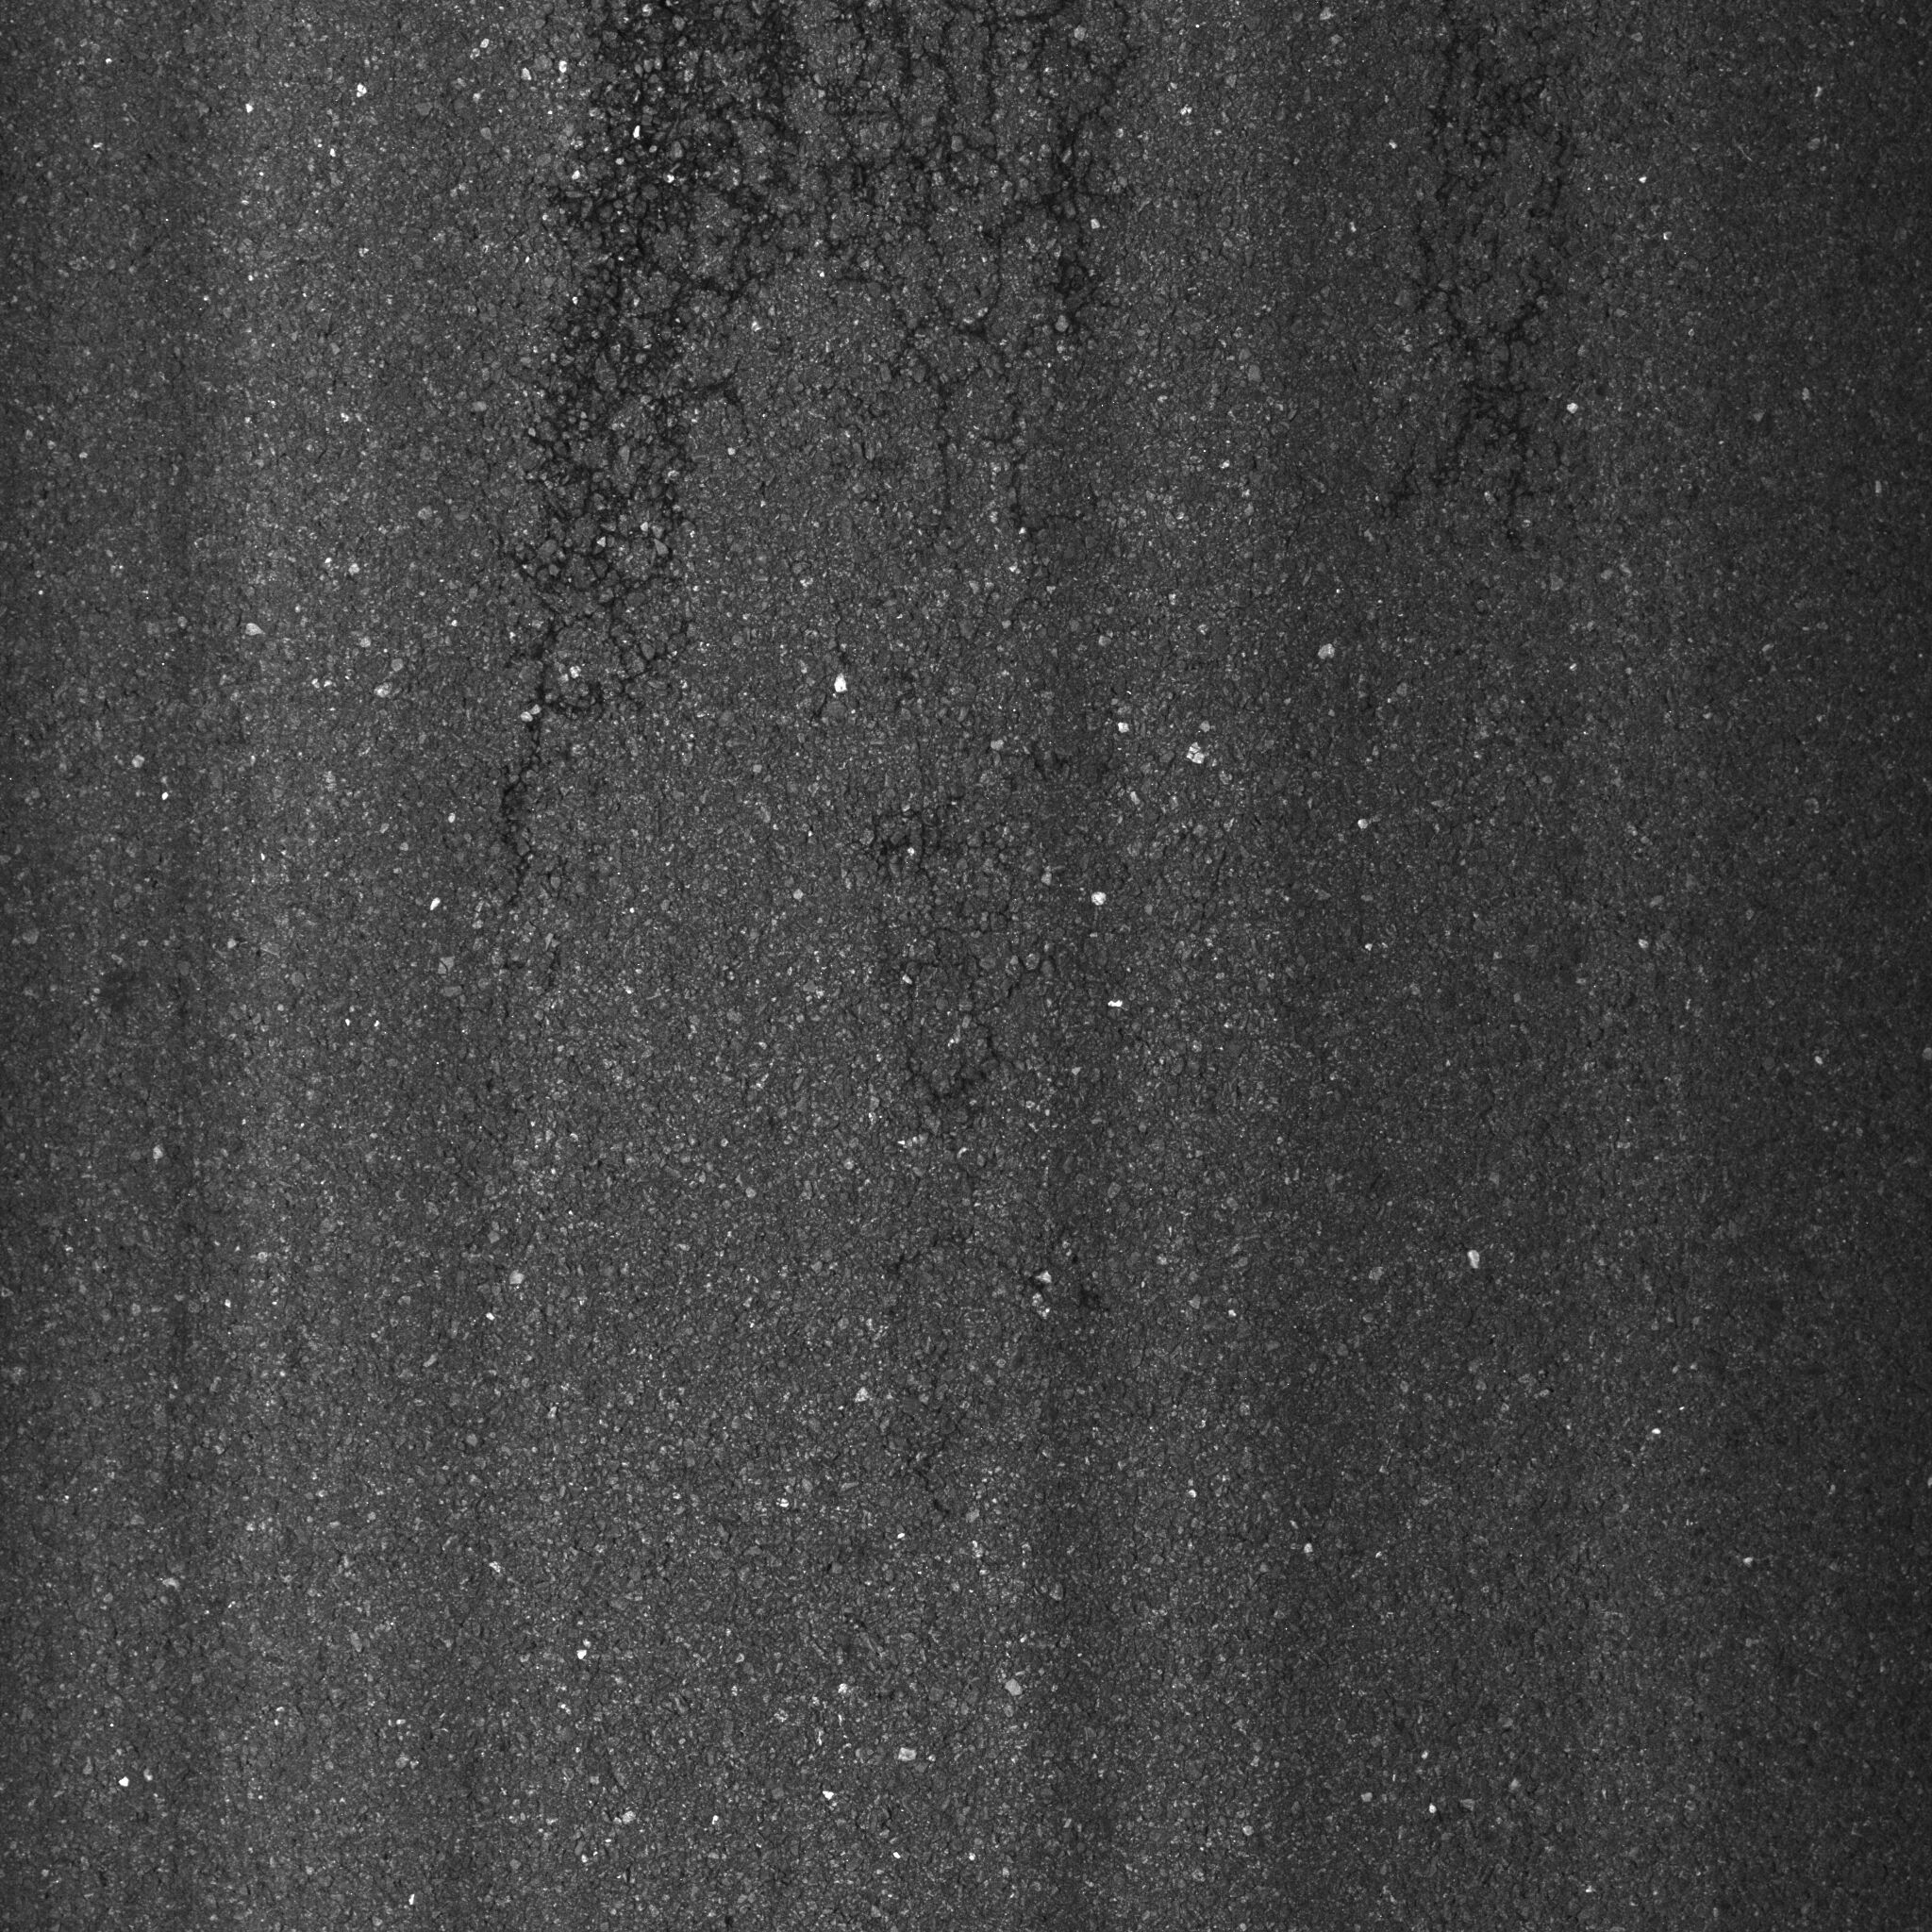alligator: (428, 2, 1175, 943), (1311, 12, 1750, 644)
